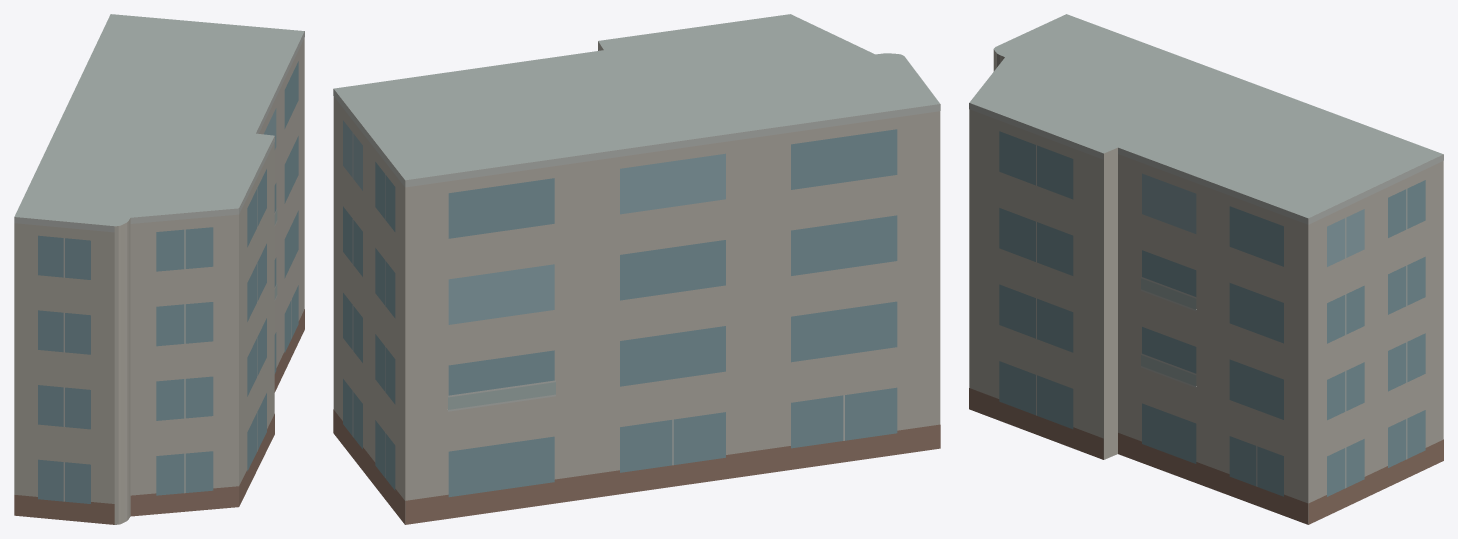
The model's file is survey-upis-32830471.glb.
The picture shows the model from 3 angles, left to right: view 1: azimuth 30°, elevation 25°; view 2: azimuth 150°, elevation 25°; view 3: azimuth 270°, elevation 25°; orthographic projection. The views are drawn at different scales.
Visible parts, largest first — view 1: survey-upis-32830471.tmp; view 2: survey-upis-32830471.tmp; view 3: survey-upis-32830471.tmp.
Part boxes in pixels (box(x1,y1,x2,y2)): survey-upis-32830471.tmp: box(14, 14, 304, 524); survey-upis-32830471.tmp: box(333, 14, 940, 524); survey-upis-32830471.tmp: box(969, 14, 1443, 524).
Bounding box in the file's own units: 16.74 × 11.7 × 16.43.
